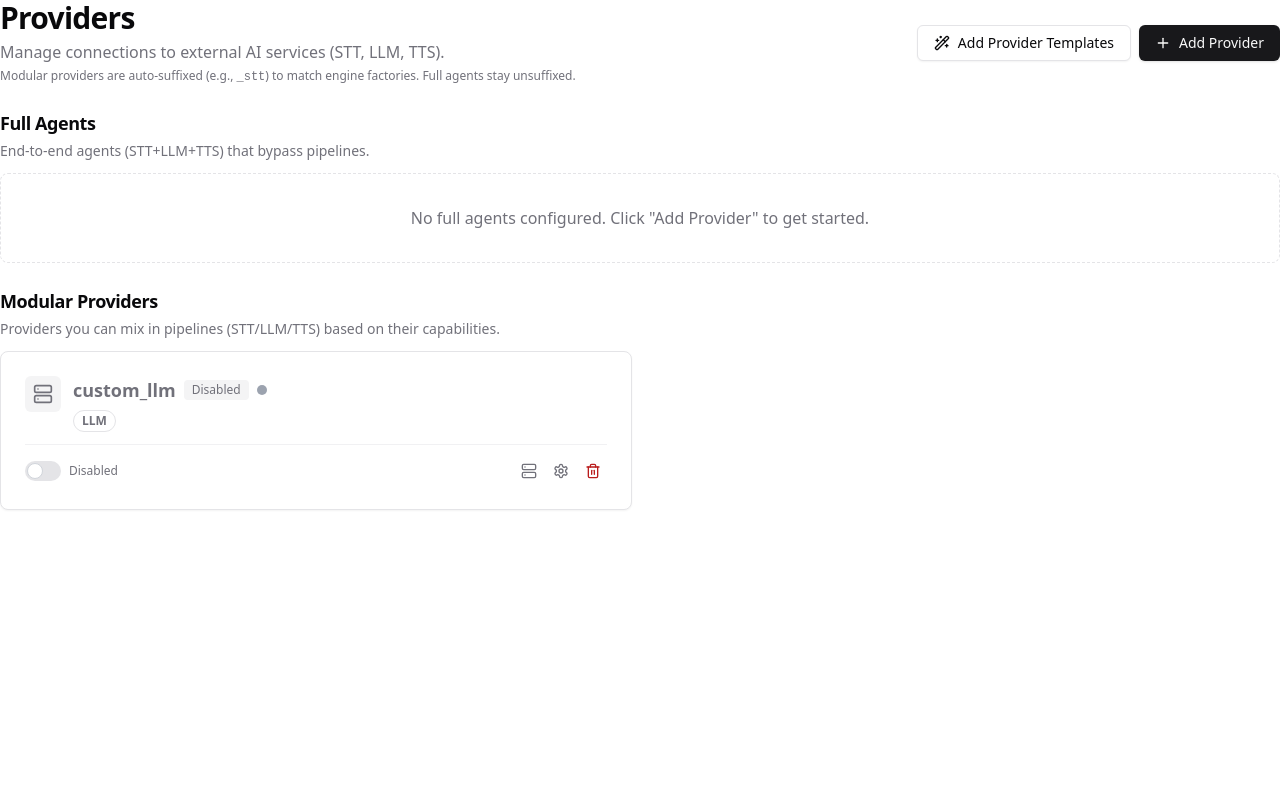
provider connection results › ignores a test response after the URL changed during the request
Click the button named "Settings for custom_llm": (561, 471) [547, 457, 575, 485]
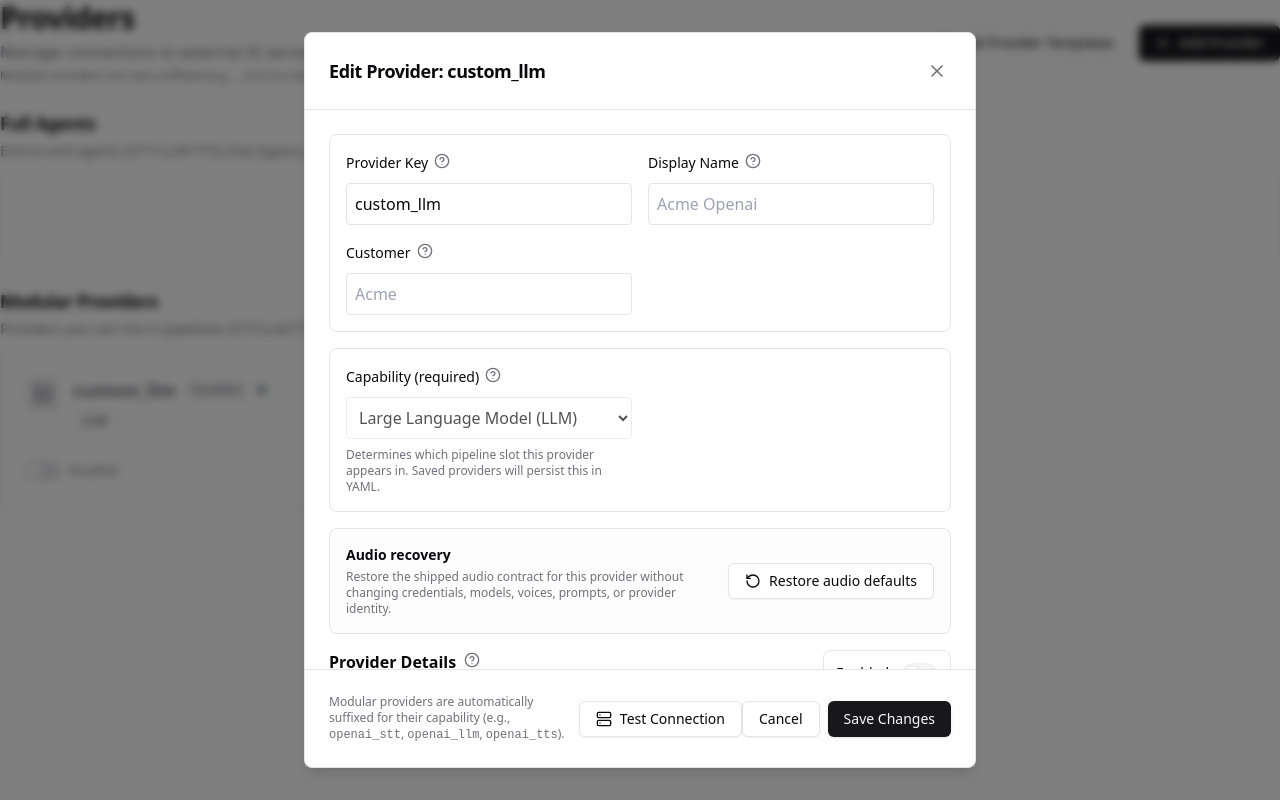
Click the button "Test Connection": (660, 718) [579, 700, 742, 736]
(page scrolled)
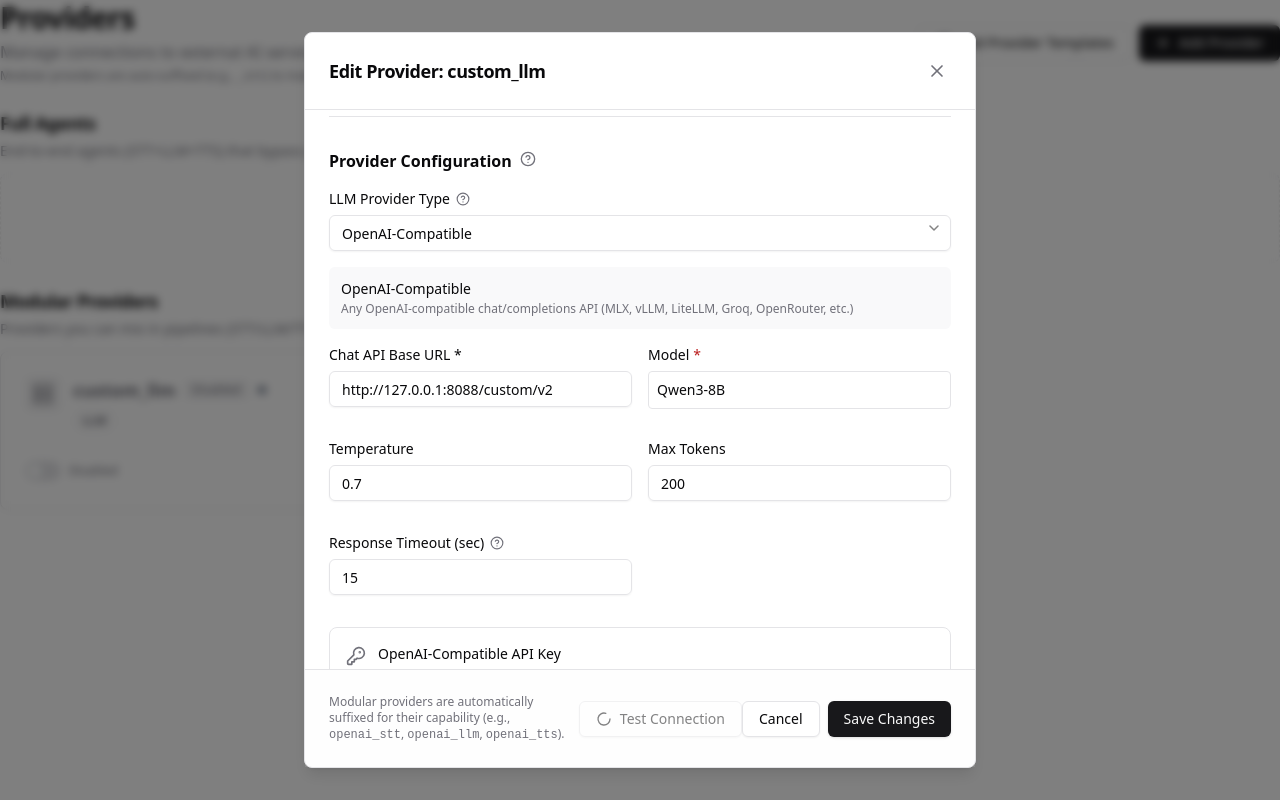
Replace the text in the field showing "http://127.0.0.1:8088/custom/v2" with "http://192.168.10.10:9090/custom/v3": (480, 389) [329, 371, 632, 407]
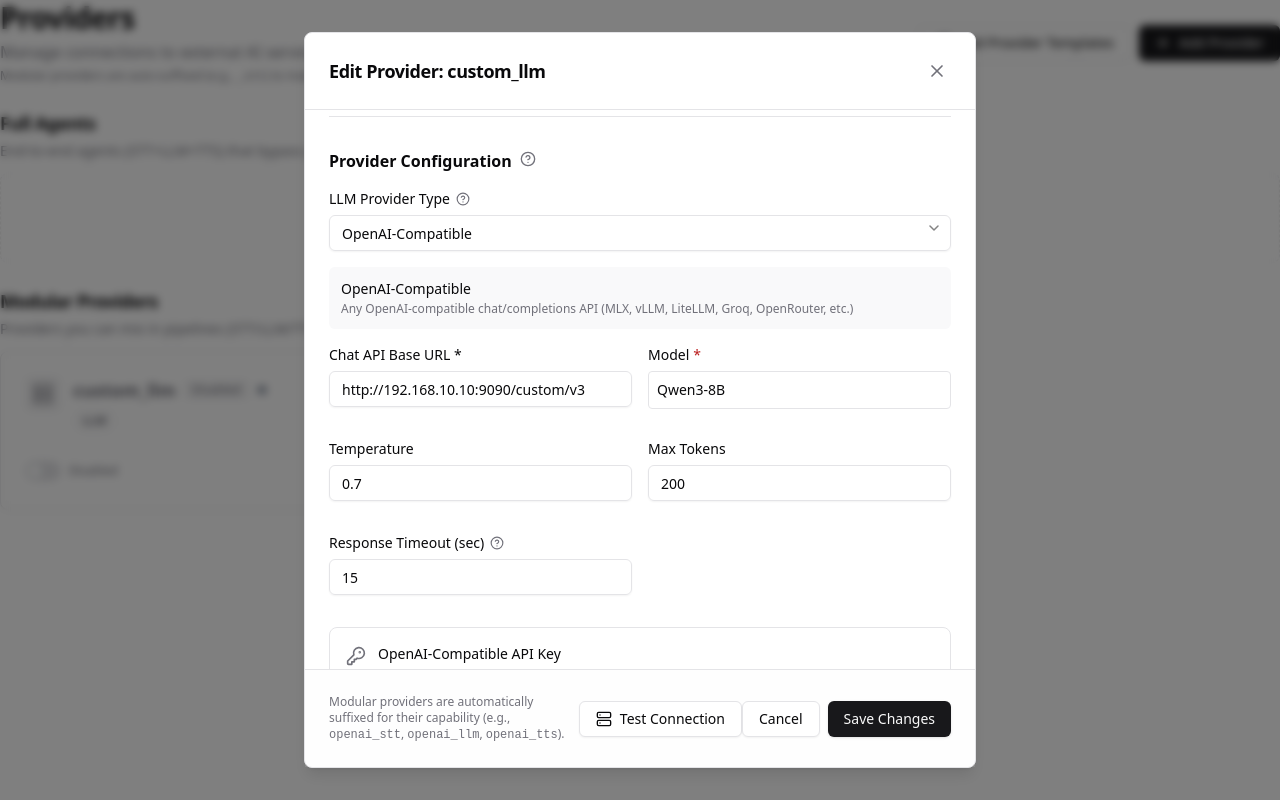
Check: the button "Test Connection" is enabled, box [579, 700, 742, 736]
